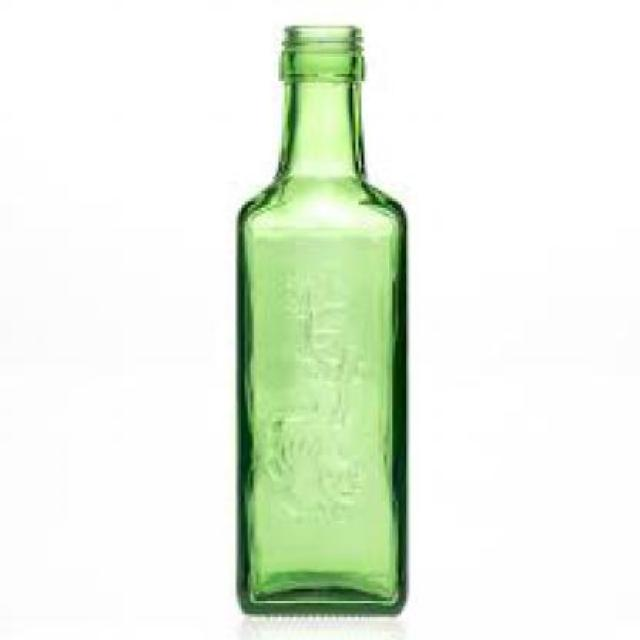kaca: (237, 23, 408, 614)
